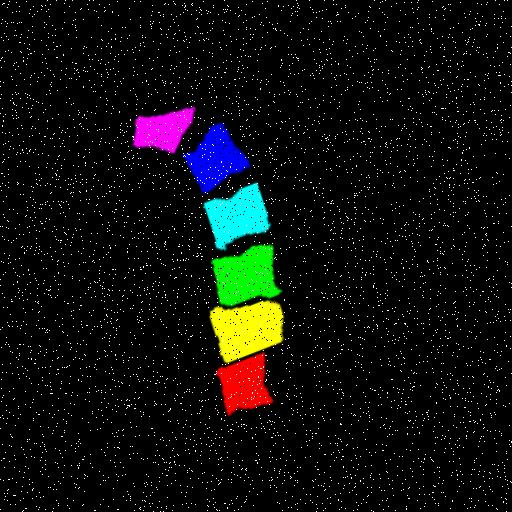L1: (218, 352, 275, 414)
L2: (211, 299, 284, 361)
L3: (213, 244, 282, 304)
L4: (205, 182, 270, 250)
L5: (185, 123, 250, 193)
S1: (133, 106, 194, 152)
